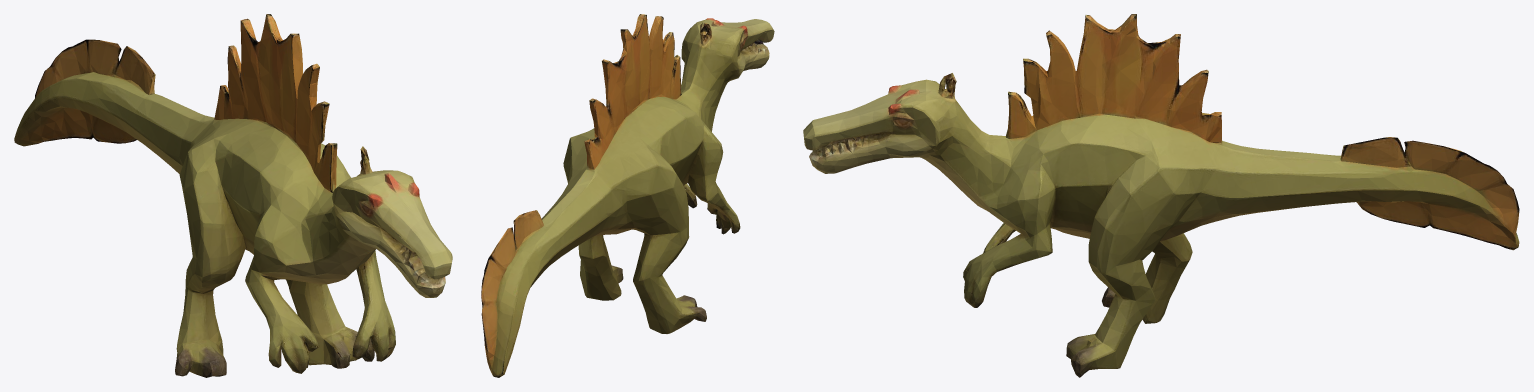
File: spinosaurus.glb
3 views of the same model, side by side, from view 1: azimuth 30°, elevation 25°; view 2: azimuth 150°, elevation 25°; view 3: azimuth 270°, elevation 25° (orthographic). The views are drawn at different scales.
Parts seen in each view (by area): view 1: geometry_0; view 2: geometry_0; view 3: geometry_0.
Boxes of the visible parts, left/top/right/bottom form: geometry_0: left=14, top=14, right=452, bottom=377; geometry_0: left=481, top=14, right=774, bottom=377; geometry_0: left=803, top=14, right=1519, bottom=377.
Size of the model in its own units: 0.2698 by 0.507 by 0.9982.
1 material, 1 textured.
